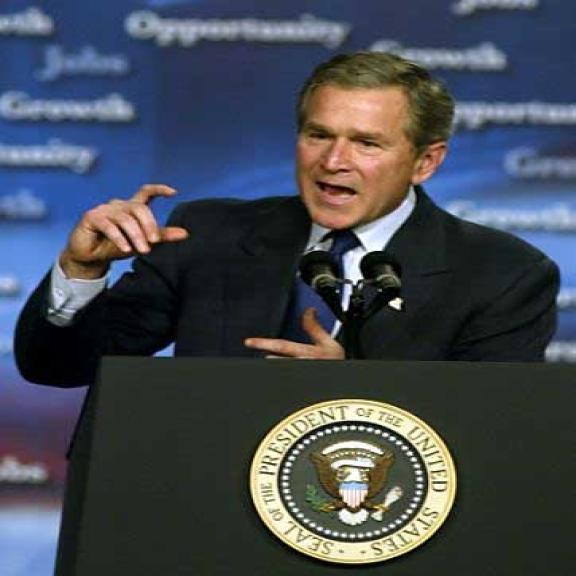face: (298, 87, 448, 230)
